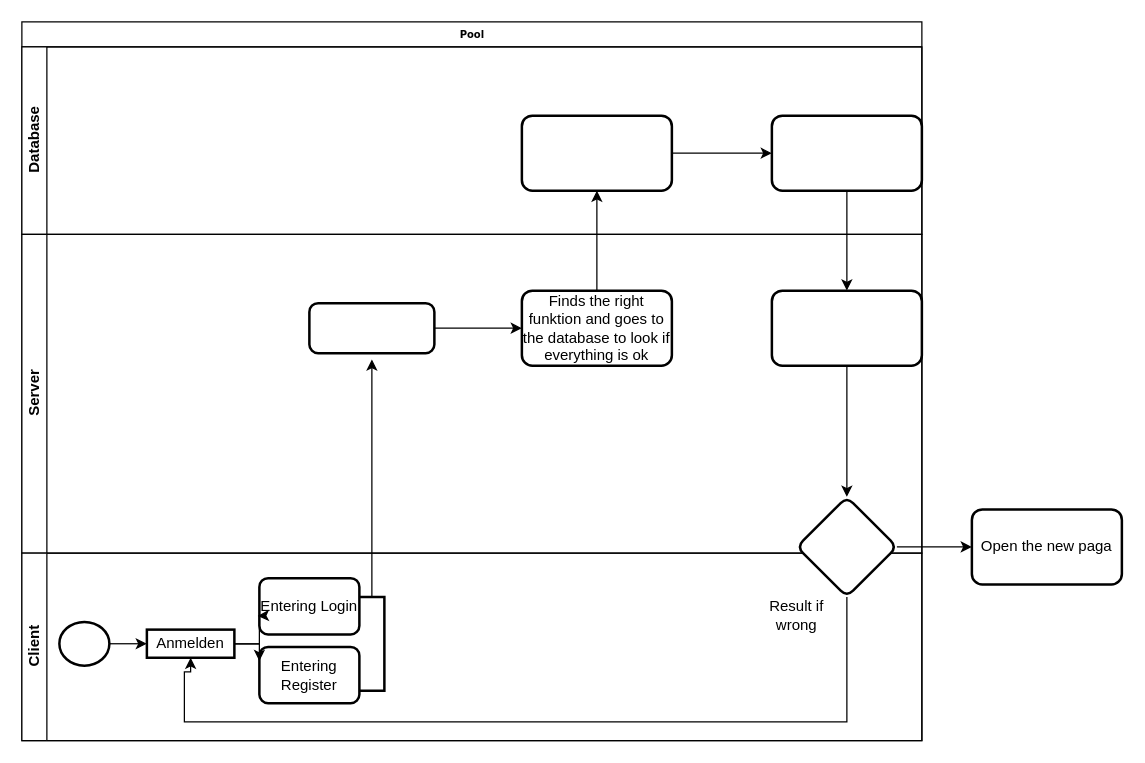
The diagram is 1145 pixels wide and 763 high, and some of its shapes have lost their labels. The shapes that lost their labels are listed below. From the top down, each one's centre as x and y in pixels, then its label:
At point 596,152: "Search for the needs things".
At point 846,152: "Has result".
At point 371,327: "Send the url to the right funktion".
At point 846,327: "Check if everything is the same and co".
At point 846,546: "Result".
